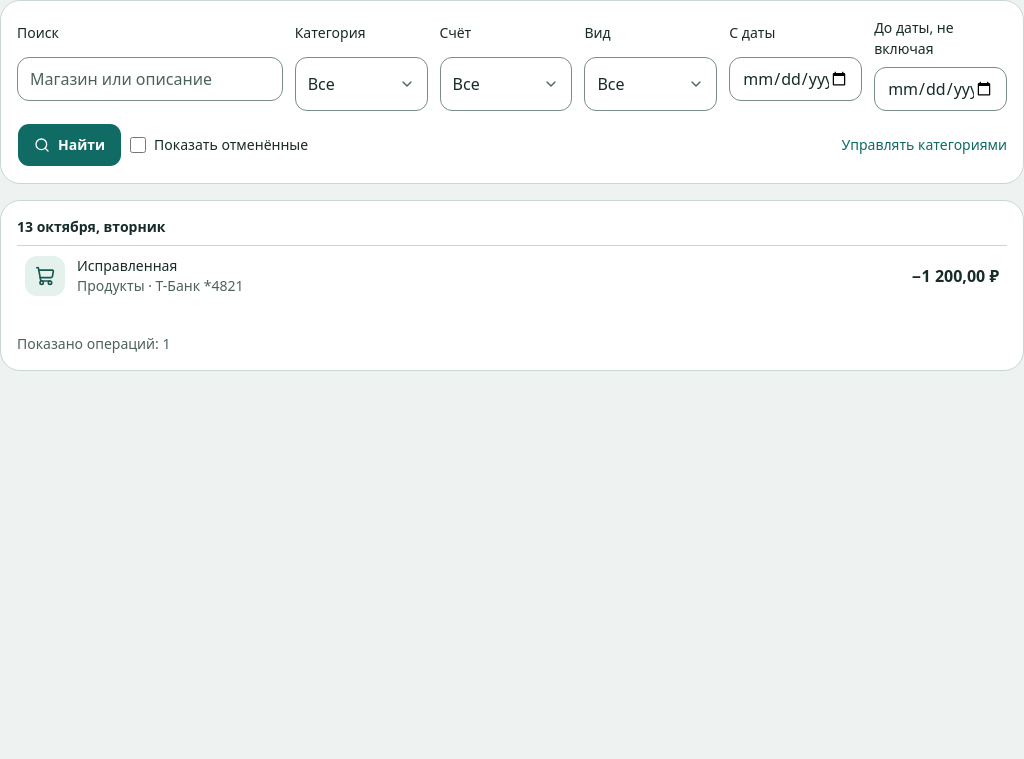
SPEC-0041 operation corrections › shows the history with names instead of identifiers
Click the button "Исправленная Продукты · Т-Банк *4821 −1 200,00 ₽" at (45, 276), box [17,246,1007,306]
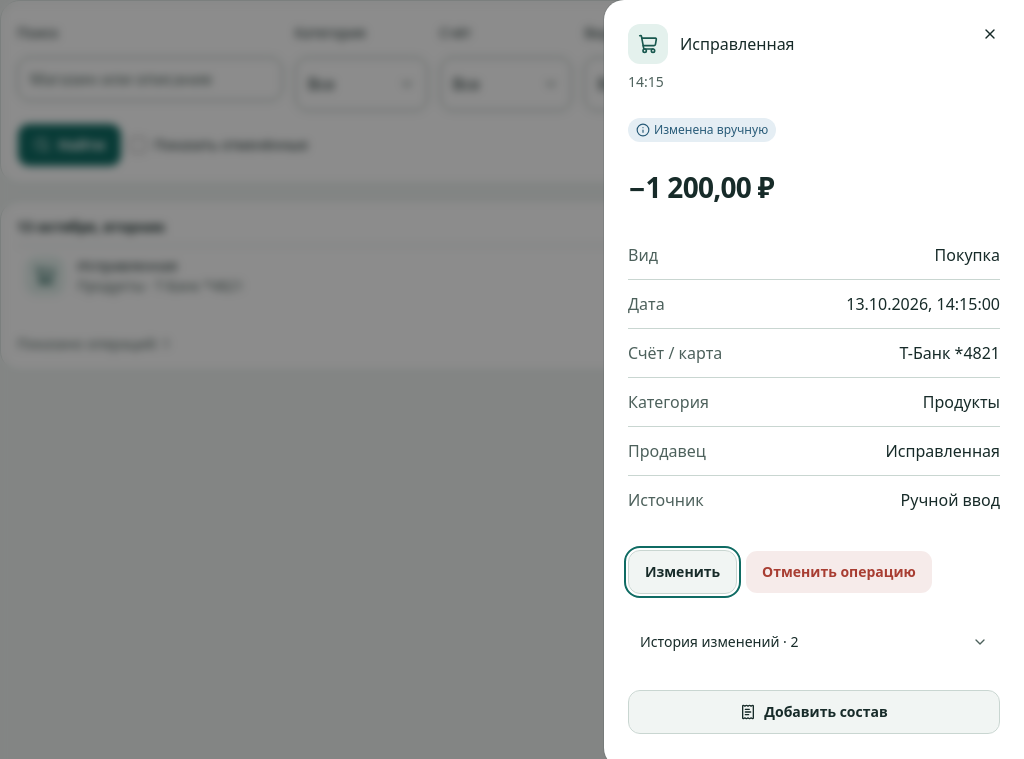
Click the button "История изменений · 2" at (719, 642), box [628,620,1000,664]
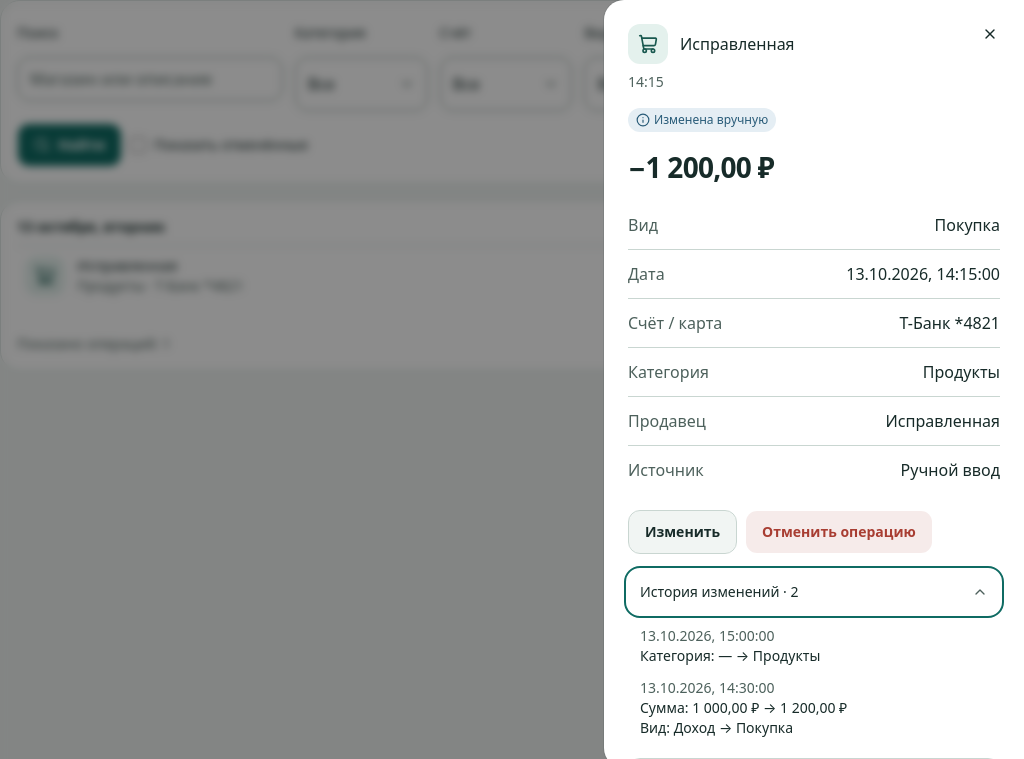
expect the list item "Категория: — → Продукты" is shown: met, box [640,646,820,665]
expect the list item "Сумма: 1 000,00 ₽ → 1 200,00 ₽" is shown: met, box [640,698,847,717]
expect the list item "Вид: Доход → Покупка" is shown: met, box [640,718,793,737]
